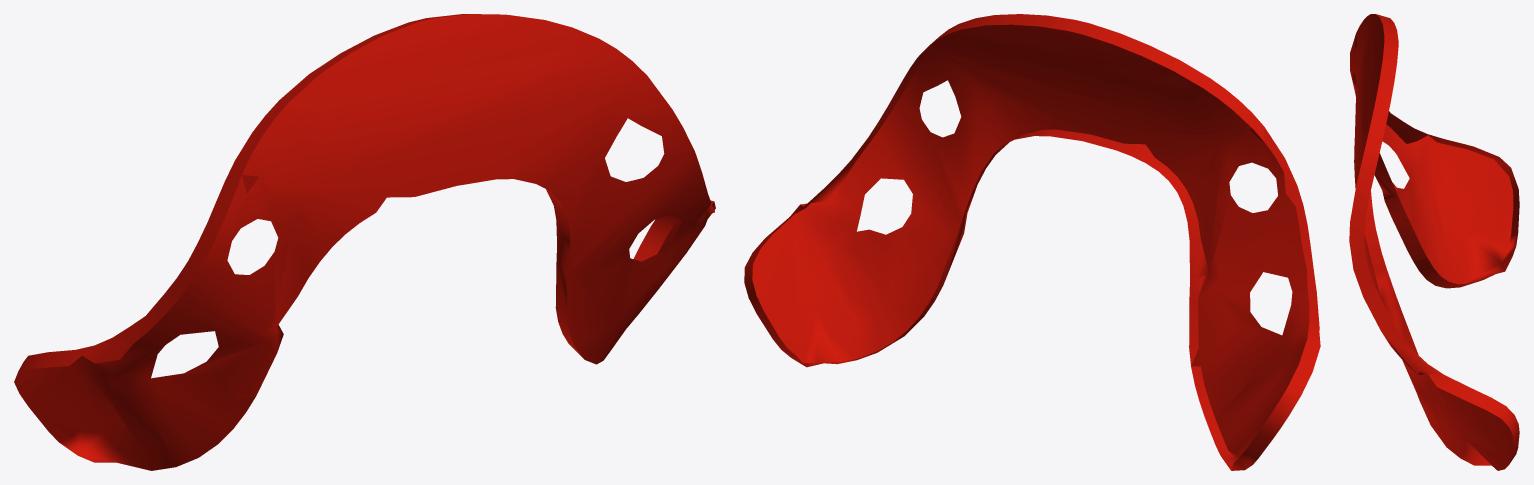
The model's file is Nao6_Body_Orange.obj.
3 views of the same model, side by side, from view 1: azimuth 30°, elevation 25°; view 2: azimuth 150°, elevation 25°; view 3: azimuth 270°, elevation 25° (orthographic). The views are drawn at different scales.
Visible parts, largest first — view 1: Nao6_Body_Orange; view 2: Nao6_Body_Orange; view 3: Nao6_Body_Orange.
Boxes of the visible parts, box(x1,y1,x2,y2) form: Nao6_Body_Orange: box(14, 14, 715, 470); Nao6_Body_Orange: box(744, 14, 1320, 470); Nao6_Body_Orange: box(1349, 14, 1519, 470).
Size of the model in its own units: 0.8382 by 0.5153 by 0.2369.
